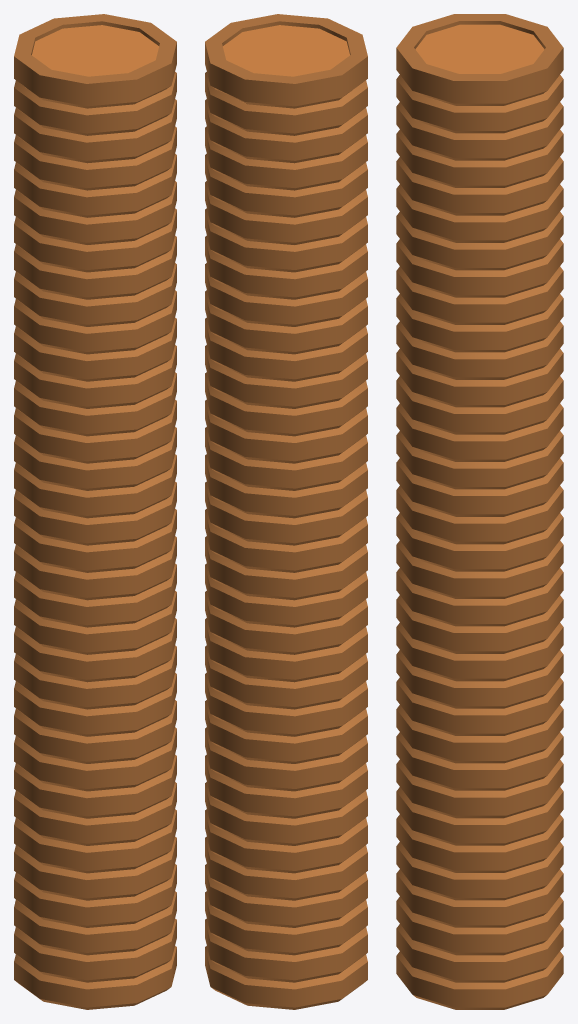
The model's file is Coin_Tower_12.fbx.
3 renders of one model, left to right at view 1: azimuth 30°, elevation 25°; view 2: azimuth 150°, elevation 25°; view 3: azimuth 270°, elevation 25°, orthographic.
Parts seen in each view (by area): view 1: Coin_Tower_12; view 2: Coin_Tower_12; view 3: Coin_Tower_12.
Boxes of the visible parts, x1,y1,x2,y2 form: Coin_Tower_12: (14, 14, 176, 1009); Coin_Tower_12: (205, 14, 367, 1009); Coin_Tower_12: (396, 14, 563, 1009).
Bounding box in the file's own units: 0.0413 × 0.2672 × 0.0435.
